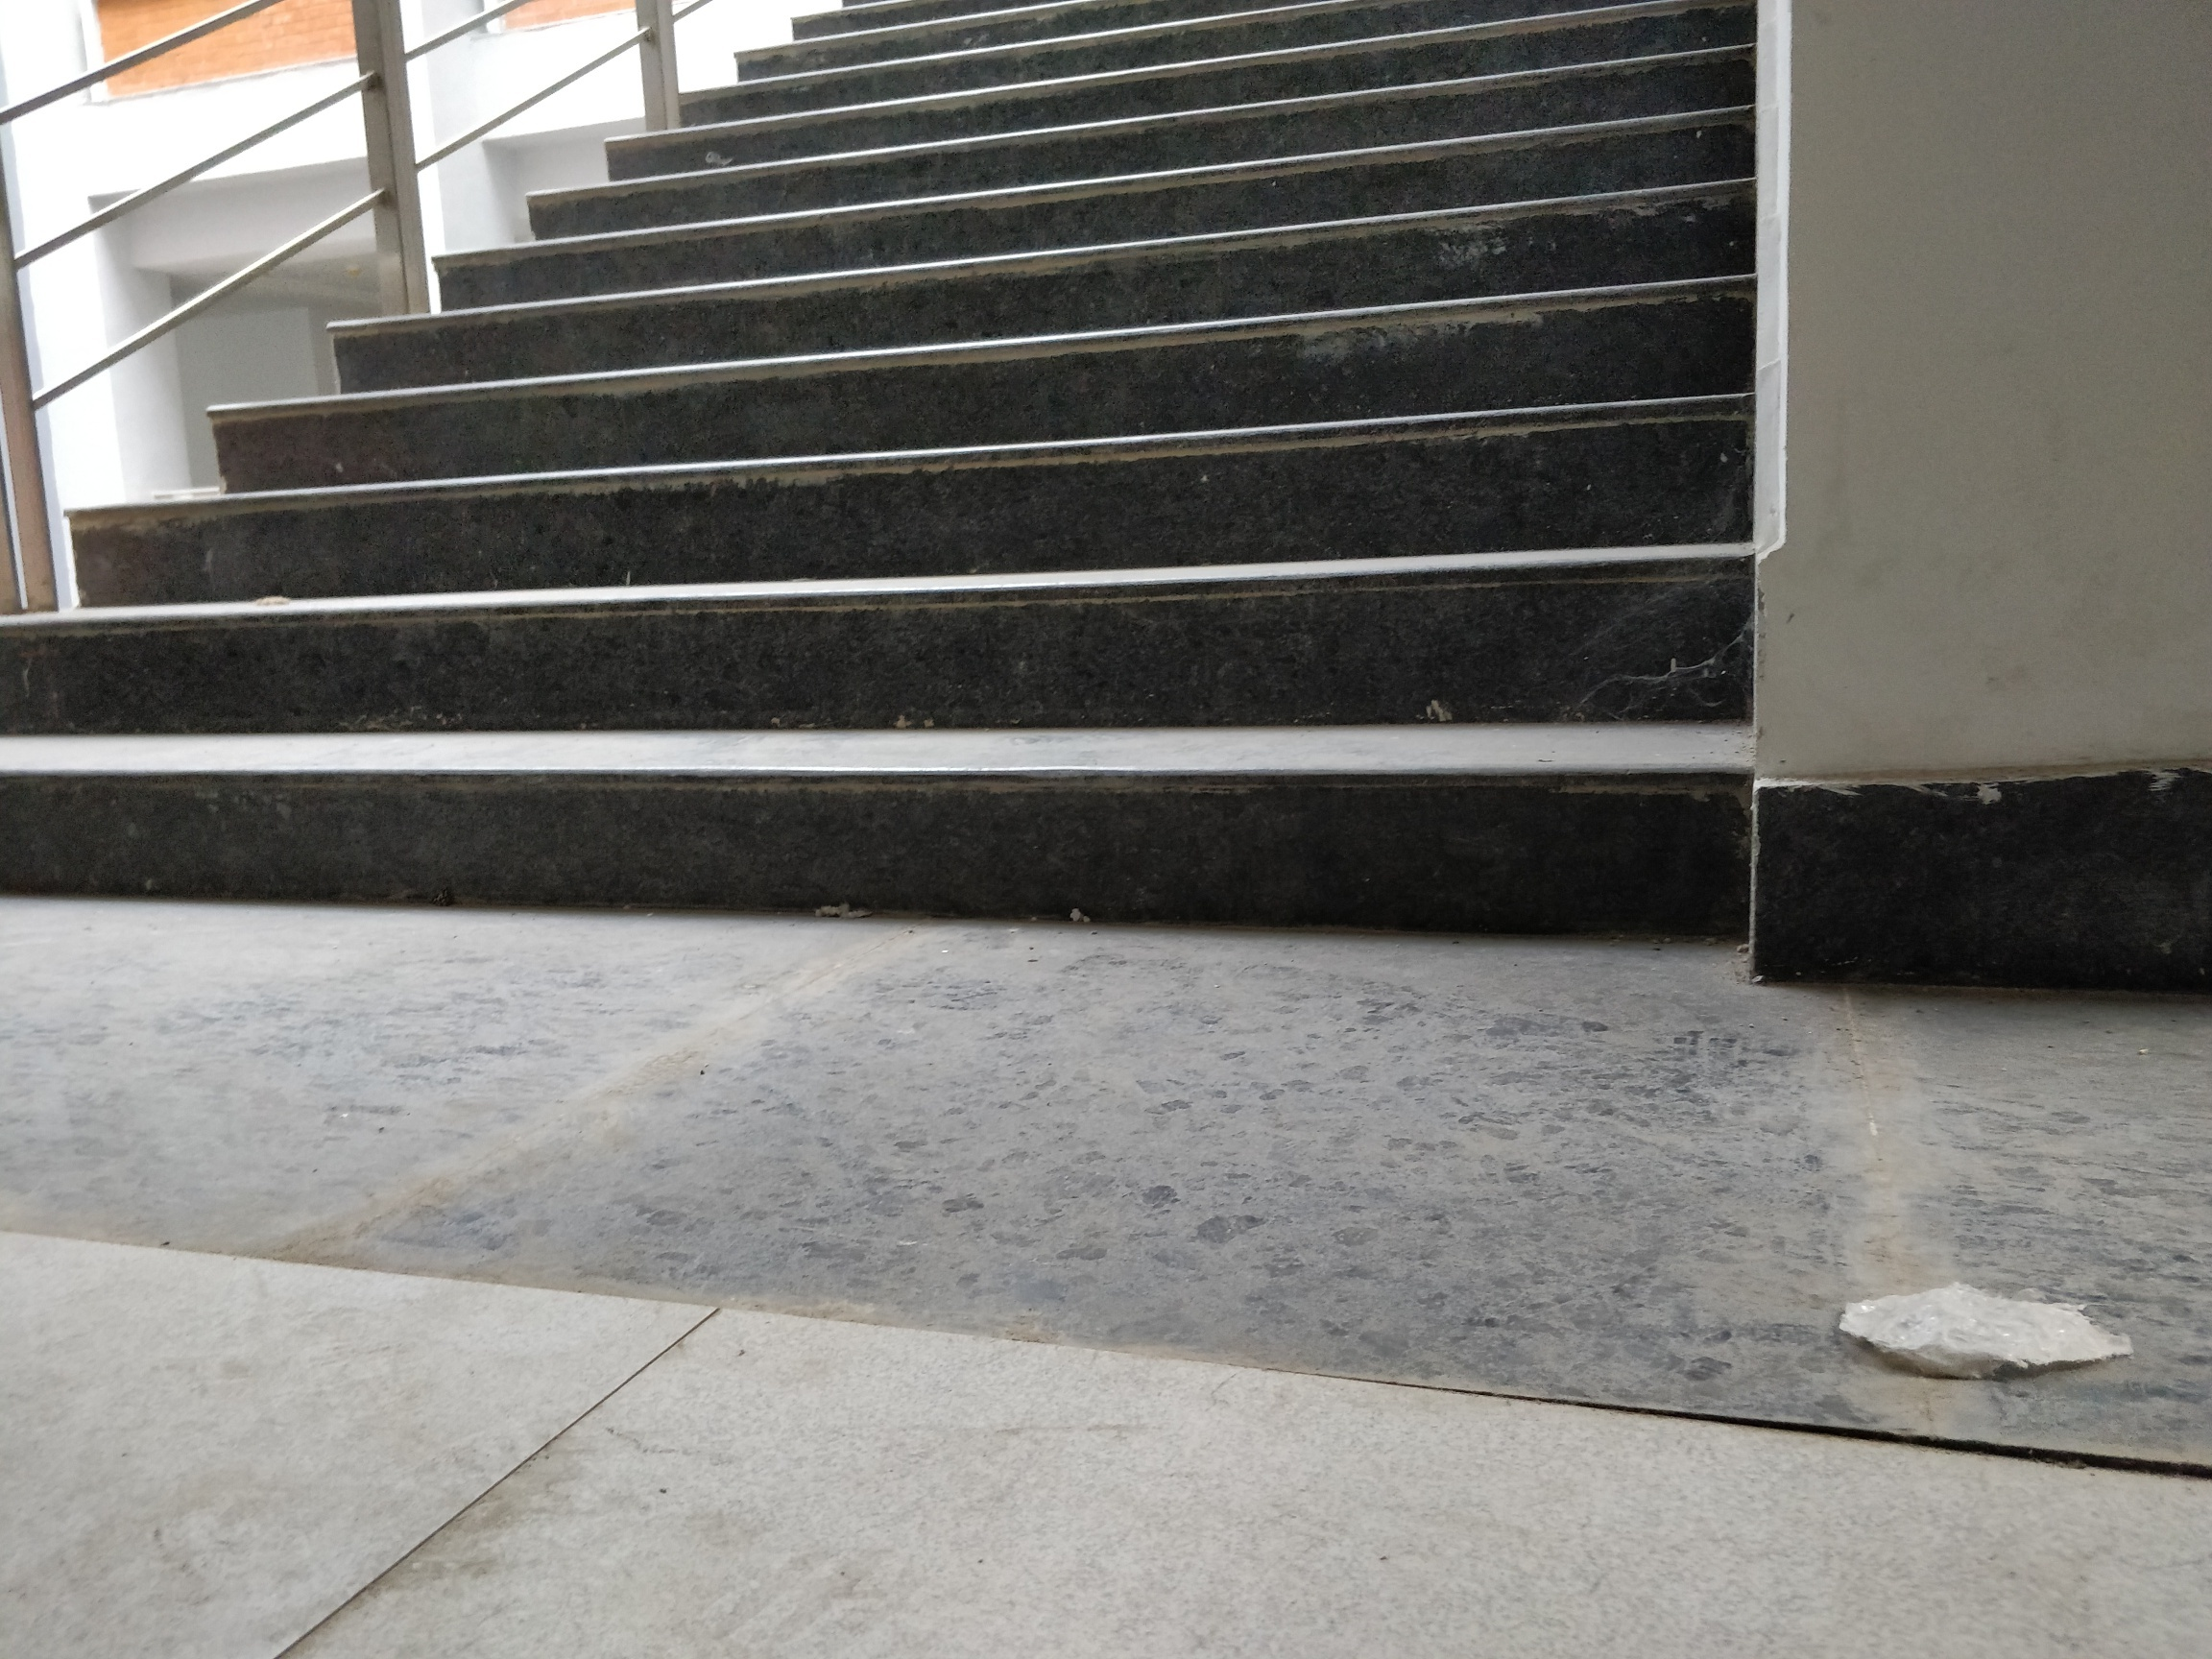stairs_up: (17, 2, 1749, 911)
